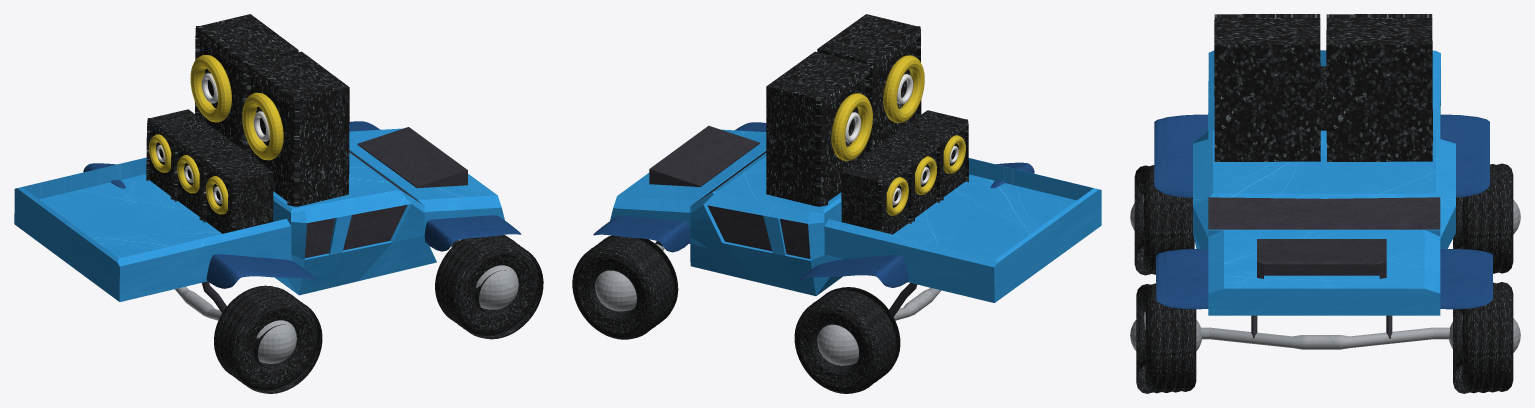
The model's file is Car.fbx.
3 views of the same model, side by side, from view 1: azimuth 30°, elevation 25°; view 2: azimuth 150°, elevation 25°; view 3: azimuth 270°, elevation 25° (orthographic). The views are drawn at different scales.
Visible parts, largest first — view 1: Cube.002, Cube.009, Cube, Torus.001, Torus.015, Cube.008, Cube.010, Cube.001, Cube.003, Cube.013, Cube.011, Cube.012 (+10 smaller); view 2: Cube.002, Cube.008, Cube, Torus.002, Torus.003, Cube.009, Cube.012, Cube.001, Cube.003, Cube.013, Cube.010, Cube.011 (+10 smaller); view 3: Cube.009, Cube.008, Cube.001, Cube, Cube.013, Torus.003, Torus.015, Cube.003, Torus.002, Torus.001, Cube.007, Cylinder (+5 smaller).
Part boxes in pixels (<box>): Cube.002: <box>14,157,292,301</box>; Cube.009: <box>246,51,349,206</box>; Cube: <box>273,152,436,295</box>; Torus.001: <box>214,285,322,393</box>; Torus.015: <box>435,235,543,339</box>; Cube.008: <box>195,14,298,150</box>; Cube.010: <box>203,151,273,233</box>; Cube.001: <box>349,128,504,241</box>; Cube.003: <box>357,127,467,188</box>; Cube.013: <box>305,150,421,258</box>; Cube.011: <box>174,130,244,220</box>; Cube.012: <box>146,109,214,199</box>; Cube.002: <box>824,158,1101,302</box>; Cube.008: <box>766,51,869,206</box>; Cube: <box>690,153,842,295</box>; Torus.002: <box>794,287,900,393</box>; Torus.003: <box>572,235,678,339</box>; Cube.009: <box>817,14,921,151</box>; Cube.012: <box>841,152,911,234</box>; Cube.001: <box>610,129,766,247</box>; Cube.003: <box>649,125,759,186</box>; Cube.013: <box>692,151,810,258</box>; Cube.010: <box>898,110,968,200</box>; Cube.011: <box>870,131,939,221</box>; Cube.009: <box>1214,14,1320,161</box>; Cube.008: <box>1326,14,1432,161</box>; Cube.001: <box>1208,230,1440,315</box>; Cube: <box>1193,130,1455,249</box>; Cube.013: <box>1208,197,1440,229</box>; Torus.003: <box>1453,282,1513,393</box>; Torus.015: <box>1136,283,1196,393</box>; Cube.003: <box>1257,239,1386,278</box>; Torus.002: <box>1453,163,1513,273</box>; Torus.001: <box>1134,165,1194,275</box>; Cube.007: <box>1154,114,1207,197</box>; Cylinder: <box>1201,327,1449,349</box>.
Bounding box in the file's own units: 483 × 378 × 302.
Materials: 6 (6 with a texture image).
